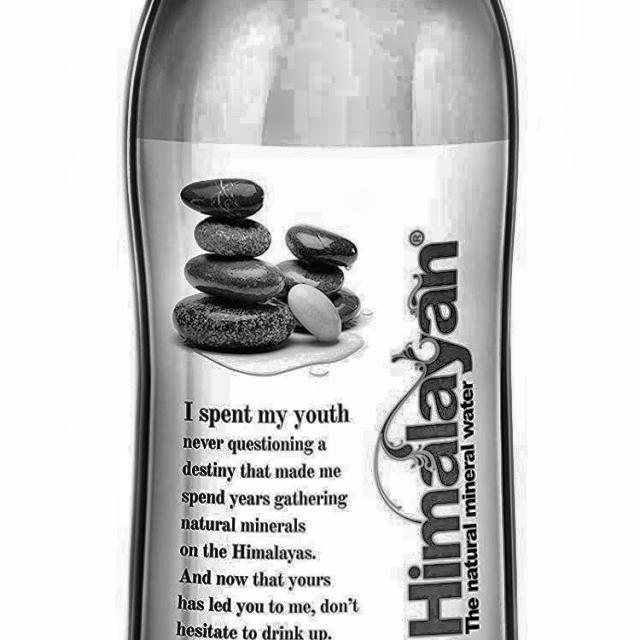bottle: (119, 0, 522, 640)
